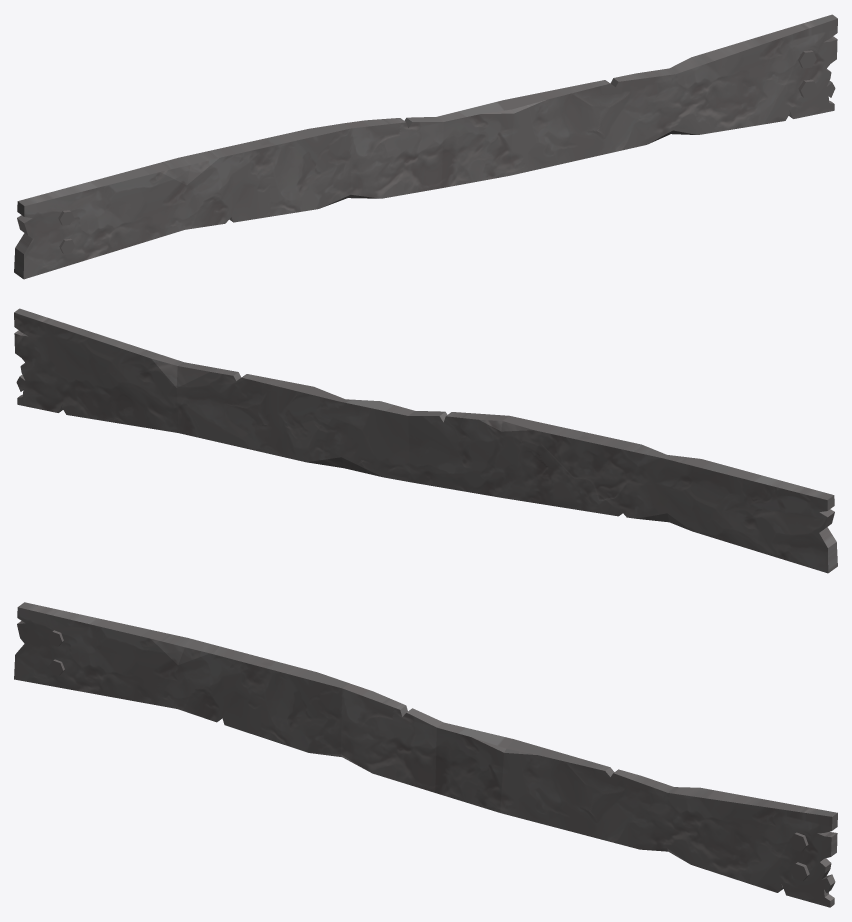
The model's file is Kayupalang.fbx.
3 views of the same model, one above another, from view 1: azimuth 30°, elevation 25°; view 2: azimuth 150°, elevation 25°; view 3: azimuth 330°, elevation 25° (orthographic).
Visible parts, largest first — view 1: Plane; view 2: Plane; view 3: Plane.
Part boxes in pixels (x1,y1,x2,y2): Plane: (14, 14, 837, 279); Plane: (14, 308, 837, 573); Plane: (14, 602, 837, 907).
Bounding box in the file's own units: 314 × 39.09 × 7.3.
